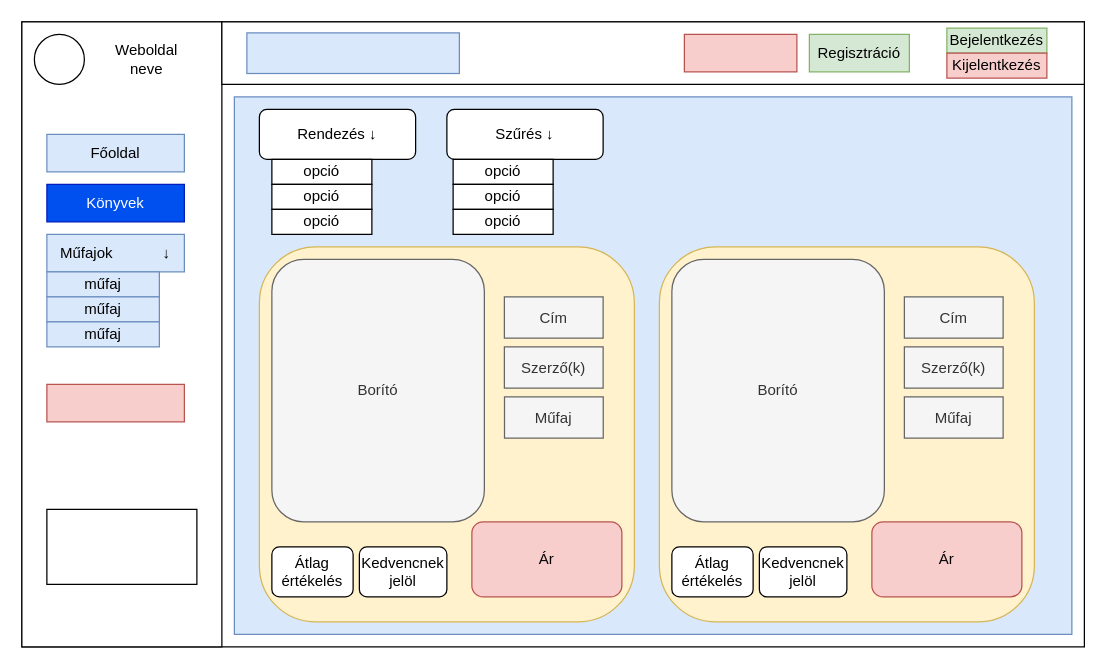
Some shapes in this 1106 by 669 pixel diagram are drawn without their labels. The shapes that lost their labels are listed below. From the top down, each one's centre as x and y in pixels, then its label:
point 58,58: Logo
point 352,53: Keresés
point 740,52: Kosaram
point 115,402: Kedvenc könyvek
point 121,546: ÁSZF Kapcsolat
